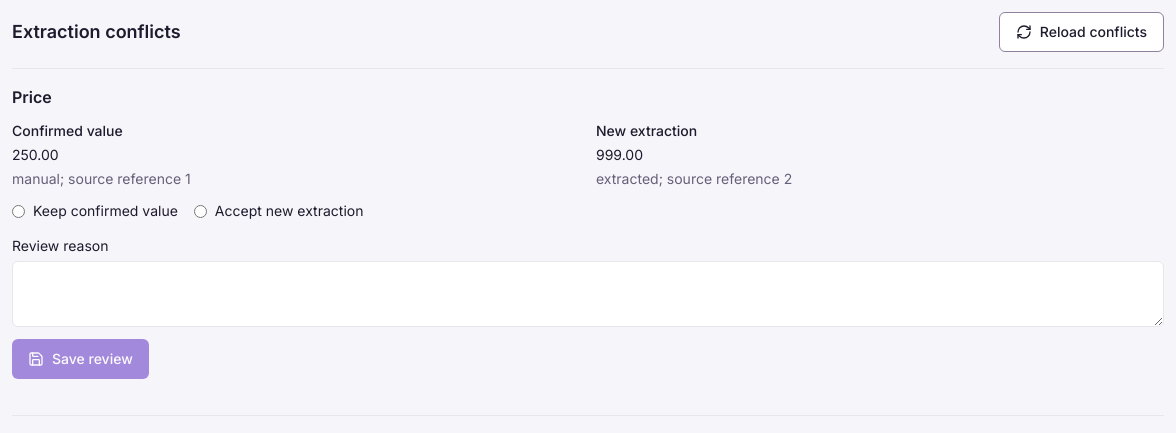
requires an explicit choice and reason, then saves the exact source token
Check: the text "250.00" is shown, box [12,146,59,163]
Check: the text "999.00" is shown, box [596,146,643,163]
Click the radio button labelled "Accept new extraction".
click(200, 211)  # box [194,204,207,218]
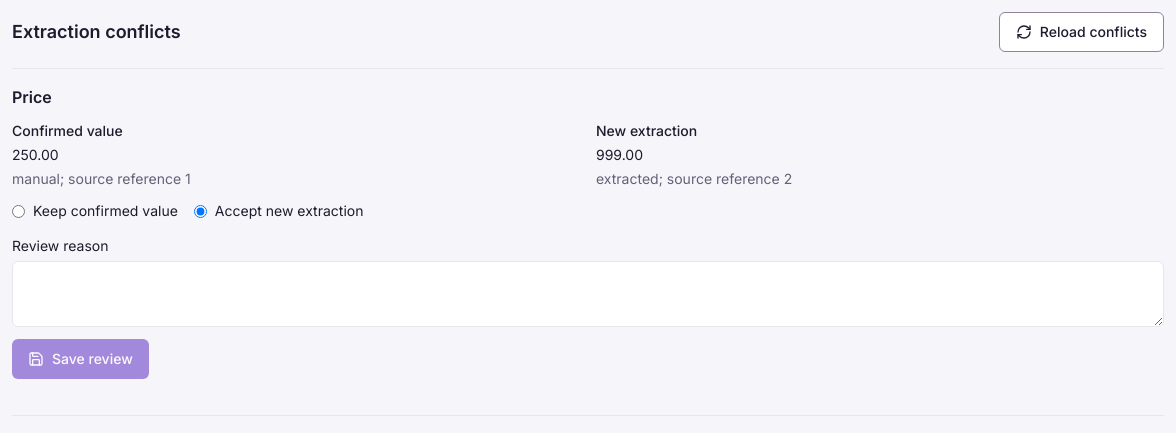
Check: the button "Save review" is disabled, box [12,339,149,379]
Type "Checked the fee clause" into the text box labelled "Review reason".
click(588, 294); type("Checked the fee clause")  # box [12,261,1164,327]
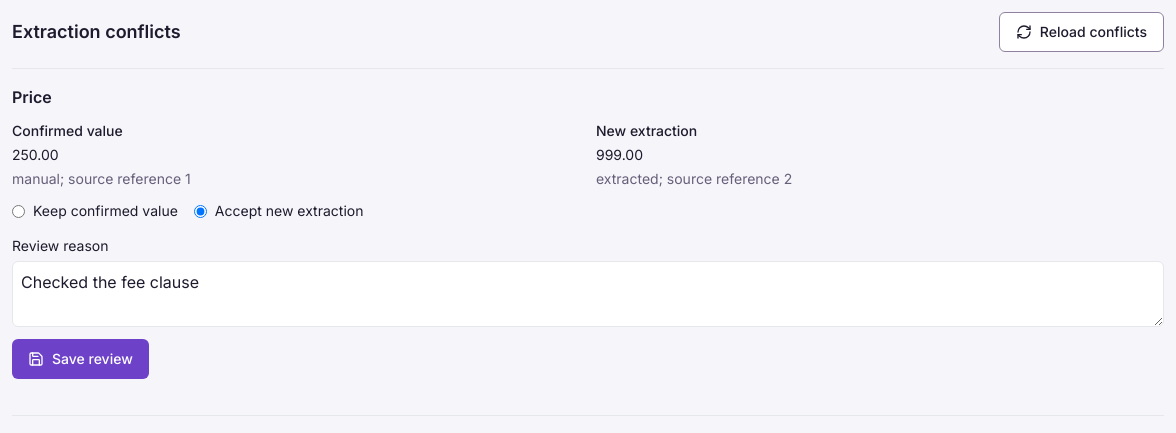
Click the button "Save review".
click(80, 359)  # box [12,339,149,379]
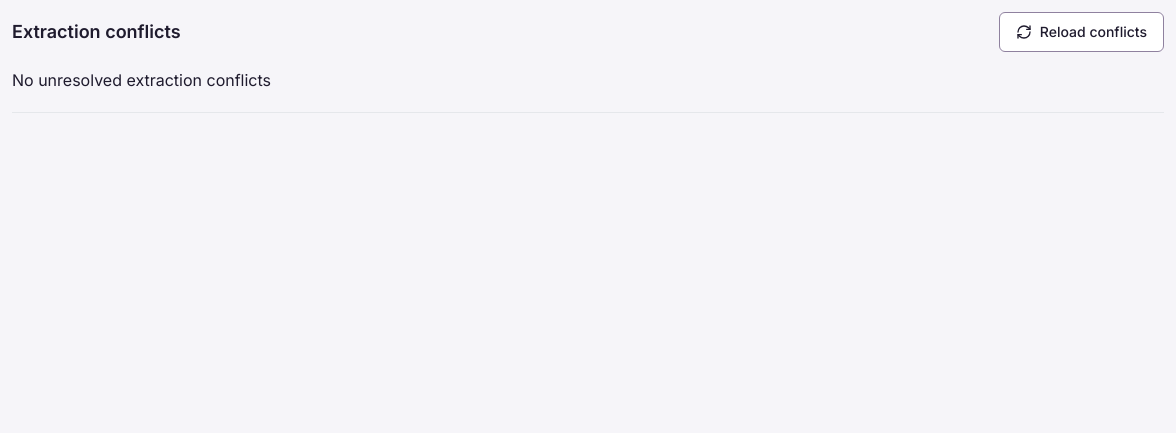
Check: the text "No unresolved extraction conflicts" is shown, box [12,70,271,90]
